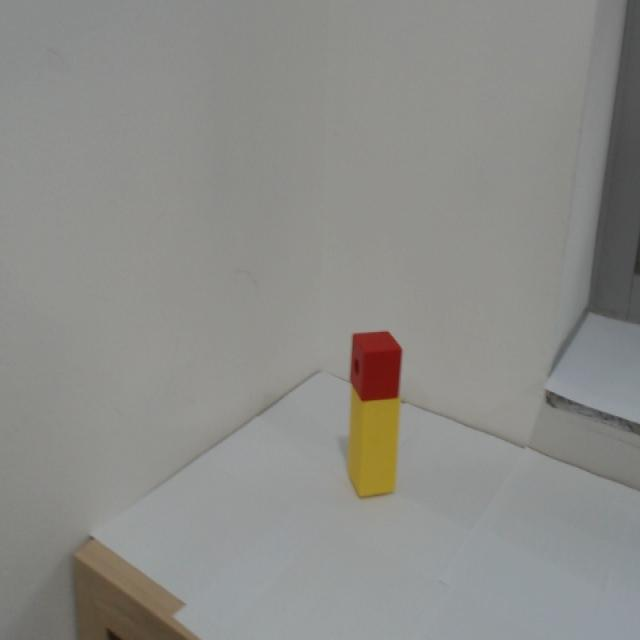cube: (346, 328, 407, 406)
